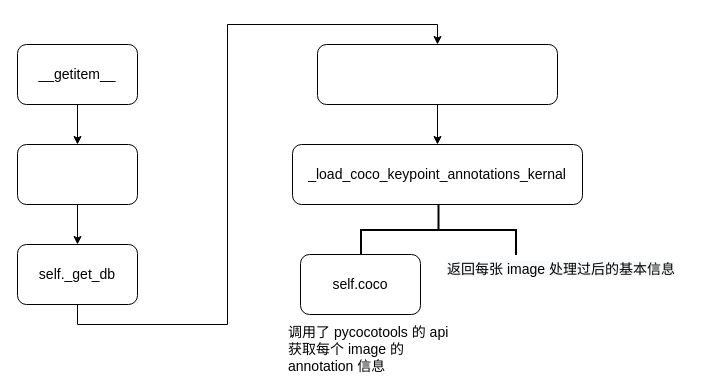
Image size: 703x392. Some labels were removed from this diagram. The centre of each missing label's shape, as x and y in pixels:
_load_coco_keypoint_annotations: (x=437, y=74)
self.db: (x=77, y=174)
